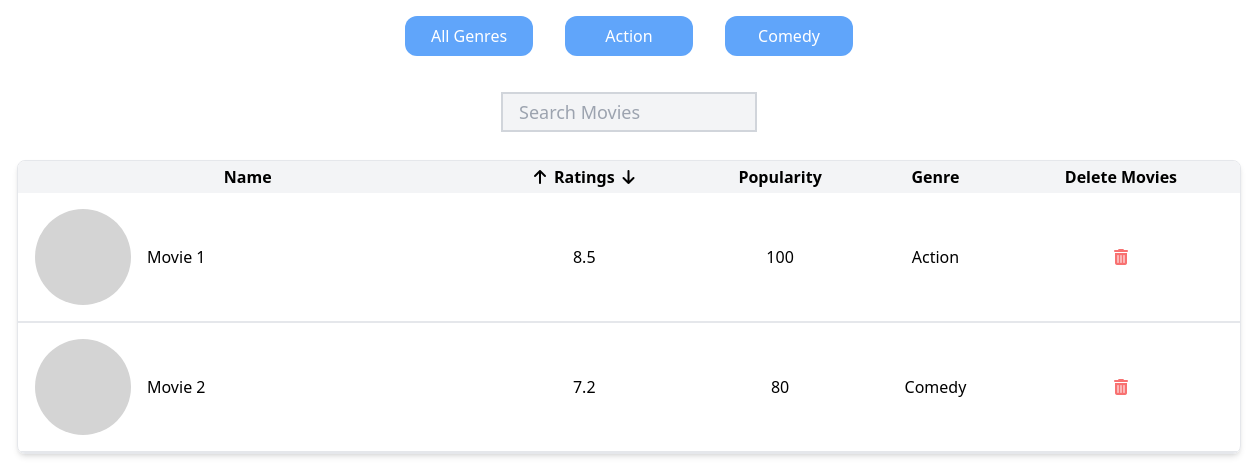
Test: Watchlist Component › filters movies by search term
Type "Movie 2" into the field with placeholder "Search Movies" at (629, 112), box left=501, top=92, right=757, bottom=132
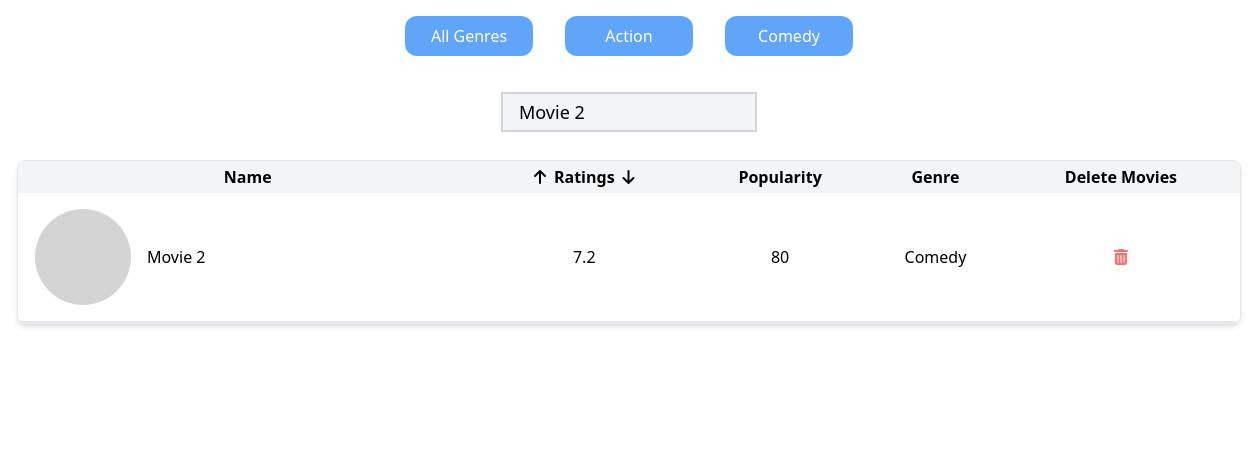
expect the text "Movie 2" is shown: met, box left=147, top=245, right=206, bottom=269
expect the text "Movie 1" is gone: met
